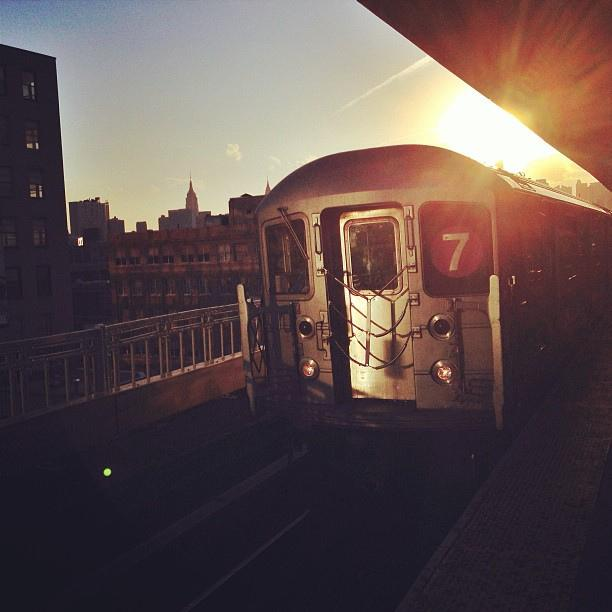Train: (255, 146, 608, 470)
